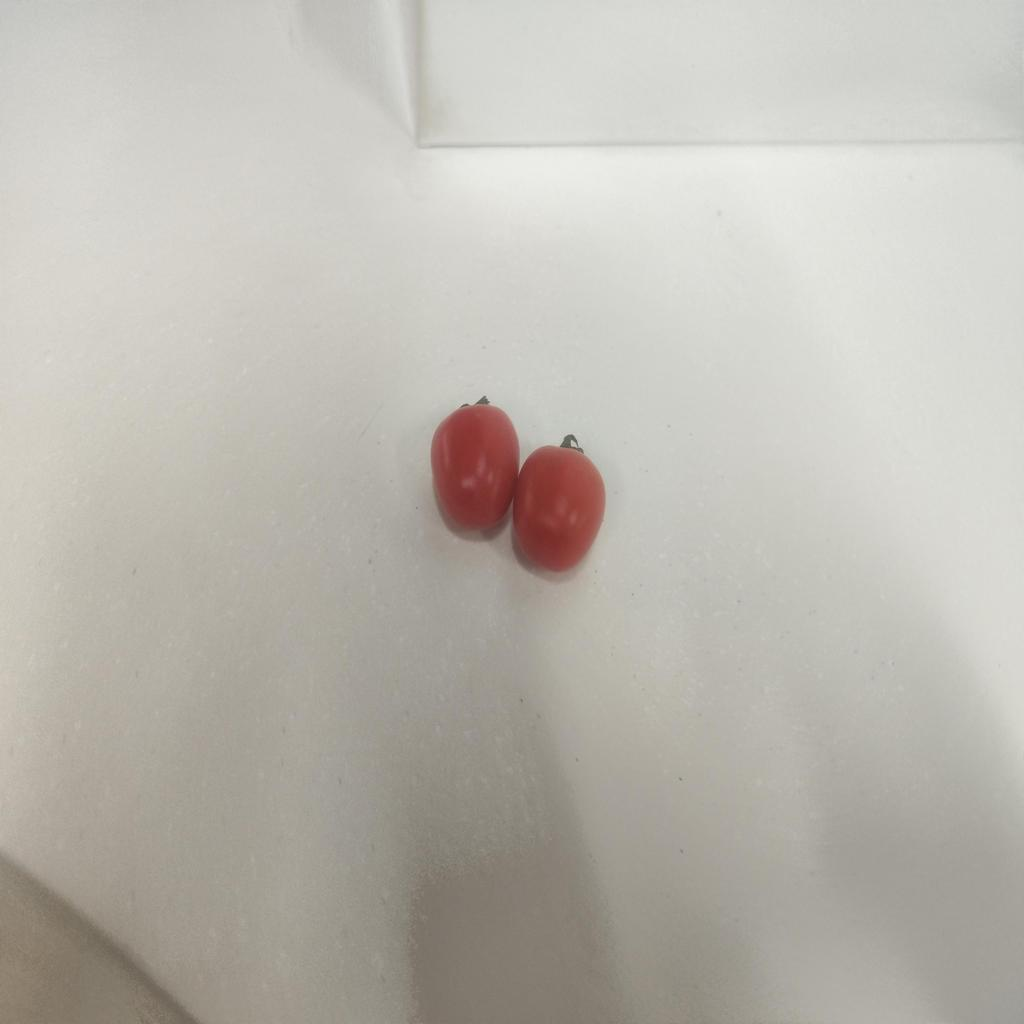tomato: (516, 427, 606, 571), (427, 391, 516, 536)
